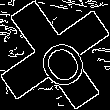O_NW: (22, 22, 88, 88)
